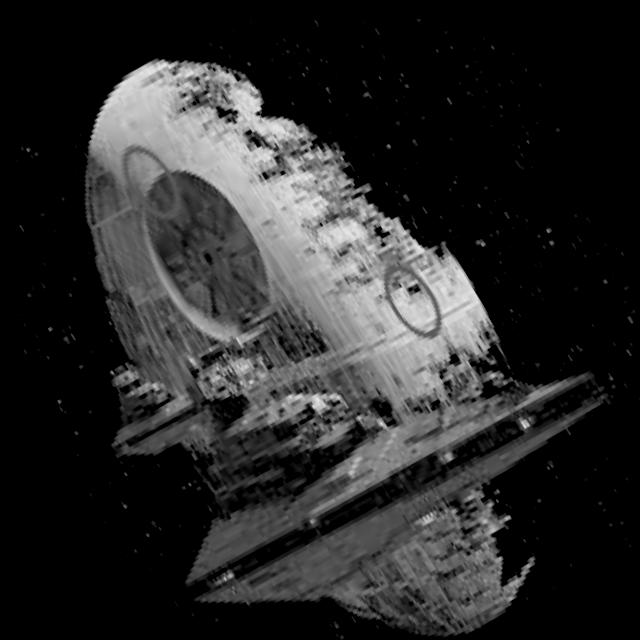death-stars: (80, 58, 509, 427), (324, 483, 537, 635)
